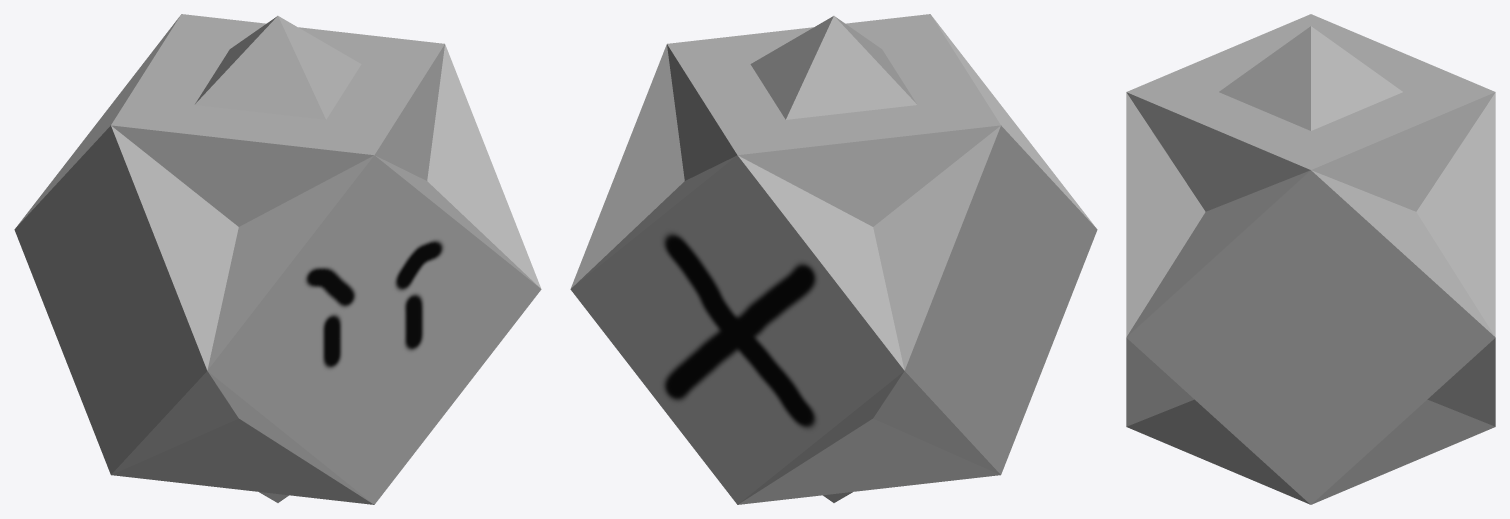
Rendered from Enemy.obj.
3 views of the same model, side by side, from view 1: azimuth 30°, elevation 25°; view 2: azimuth 150°, elevation 25°; view 3: azimuth 270°, elevation 25° (orthographic). The views are drawn at different scales.
Visible parts, largest first — view 1: 立方体; view 2: 立方体; view 3: 立方体.
Part boxes in pixels (x1,y1,x2,y2): 立方体: [14, 14, 541, 504]; 立方体: [570, 14, 1097, 504]; 立方体: [1126, 14, 1495, 504].
Bounding box in the file's own units: 2 × 2.79 × 2.
Materials: 1 (1 with a texture image).
